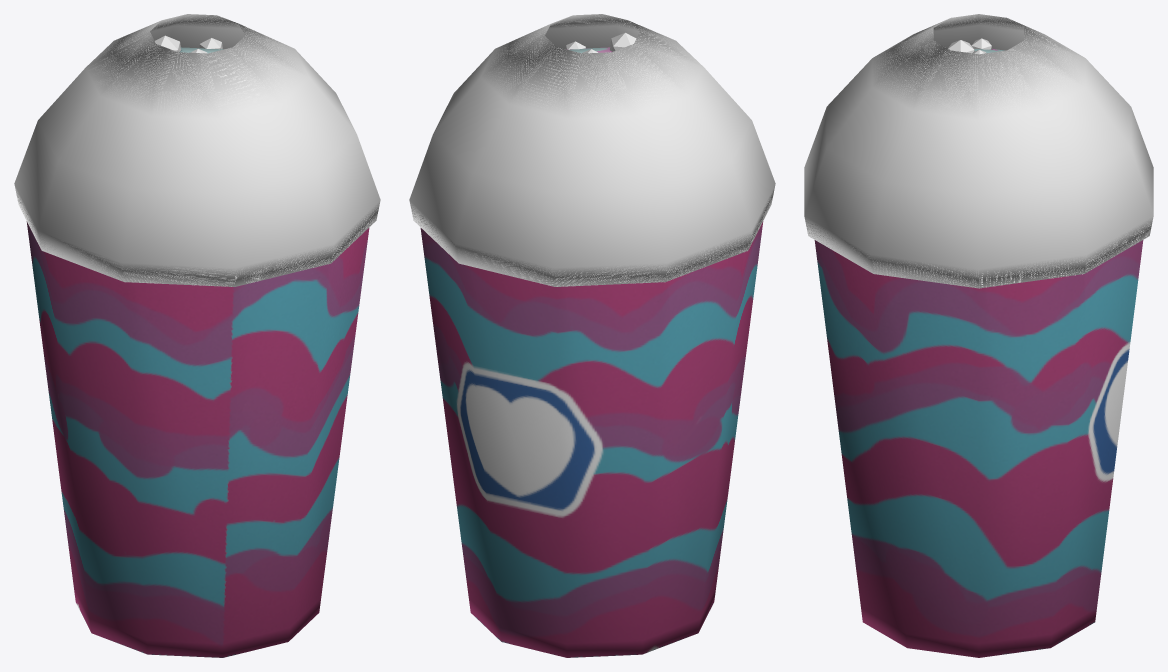
The model's file is Pembe_suslu_bardak.fbx.
3 views of the same model, side by side, from view 1: azimuth 30°, elevation 25°; view 2: azimuth 150°, elevation 25°; view 3: azimuth 270°, elevation 25° (orthographic).
Visible parts, largest first — view 1: Cupofcoffee.001, Pembe susulu bardak lid; view 2: Cupofcoffee.001, Pembe susulu bardak lid; view 3: Cupofcoffee.001, Pembe susulu bardak lid.
Boxes of the visible parts, x1,y1,x2,y2 form: Cupofcoffee.001: [26, 47, 369, 657]; Pembe susulu bardak lid: [14, 14, 380, 286]; Cupofcoffee.001: [420, 47, 763, 657]; Pembe susulu bardak lid: [409, 14, 775, 286]; Cupofcoffee.001: [814, 48, 1143, 657]; Pembe susulu bardak lid: [804, 14, 1153, 288].
Bounding box in the file's own units: 0.1199 × 0.2061 × 0.1141.
Materials: 1 (1 with a texture image).
